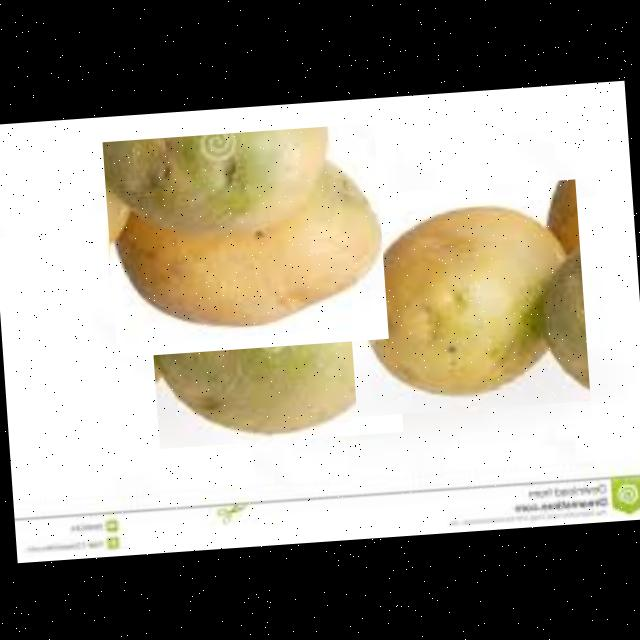Defected potato: (101, 122, 387, 356), (340, 178, 589, 416), (144, 231, 402, 448)
